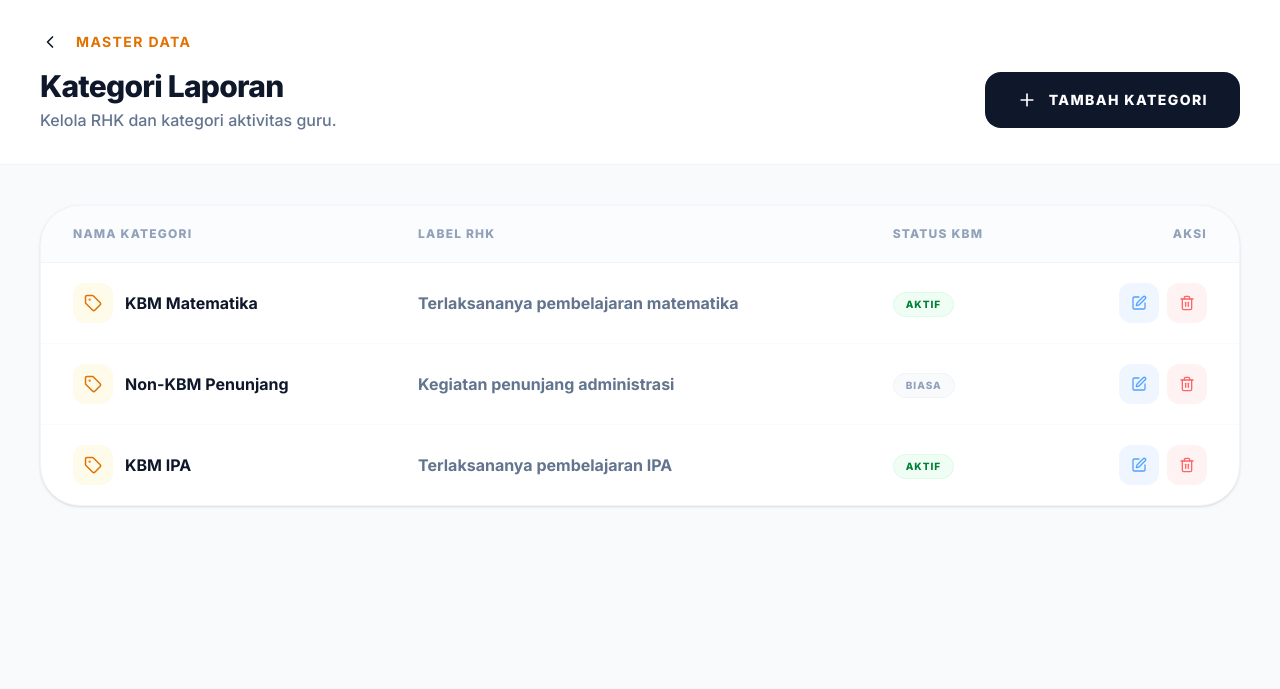
AdminCategoriesClient › should toggle between add and edit modes properly
// Open add form
Click the button "Tambah Kategori" at (1112, 100), box [985,72,1240,128]
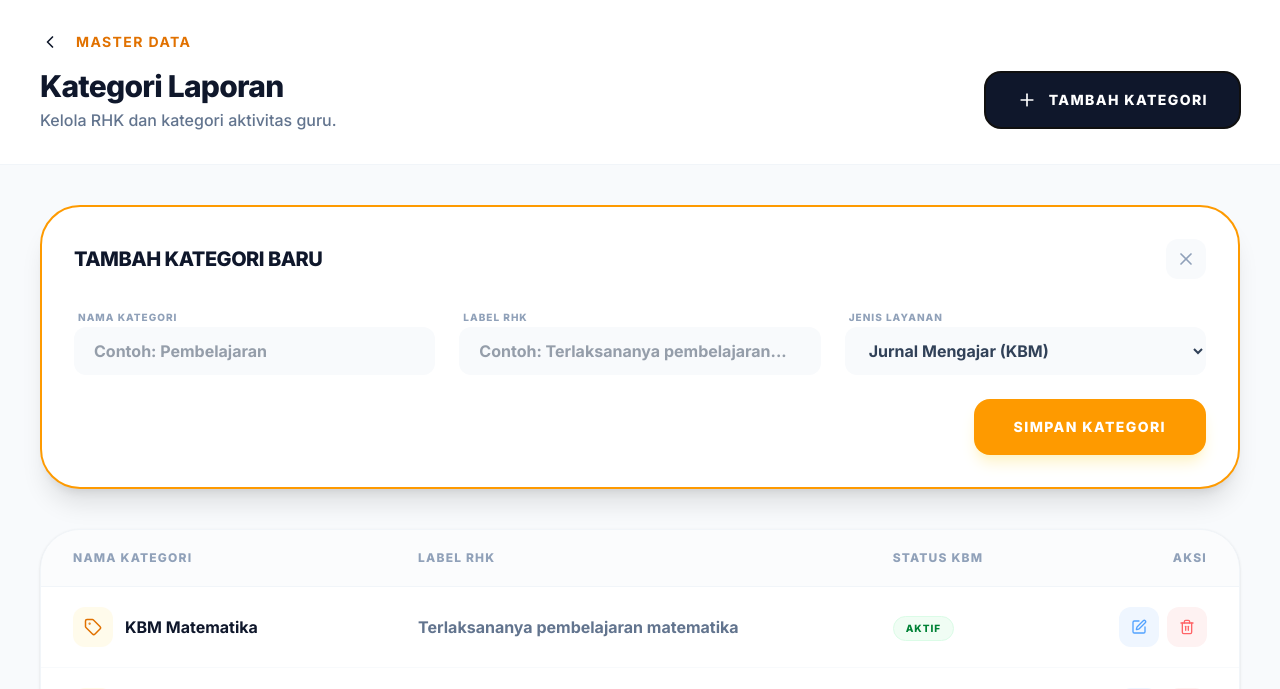
Expected: the heading "Tambah Kategori Baru" is shown, [74,245,322,273]
// Click edit on a category
Click the button titled "Edit kategori" in the row of "KBM Matematika" at (1139, 627), box [1119,607,1159,647]
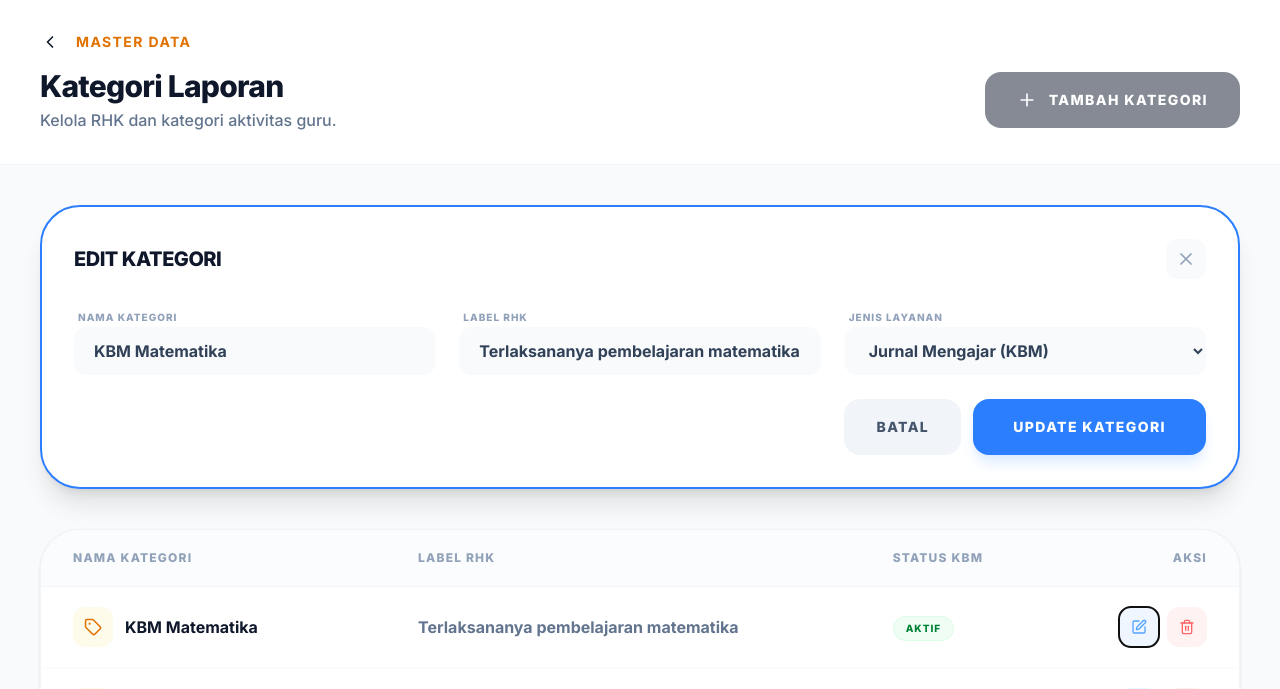
Expected: the heading "Edit Kategori" is shown, [74,245,221,273]
Expected: the button "Update Kategori" is shown, [973,399,1206,455]
Expected: the heading "Tambah Kategori Baru" is gone
